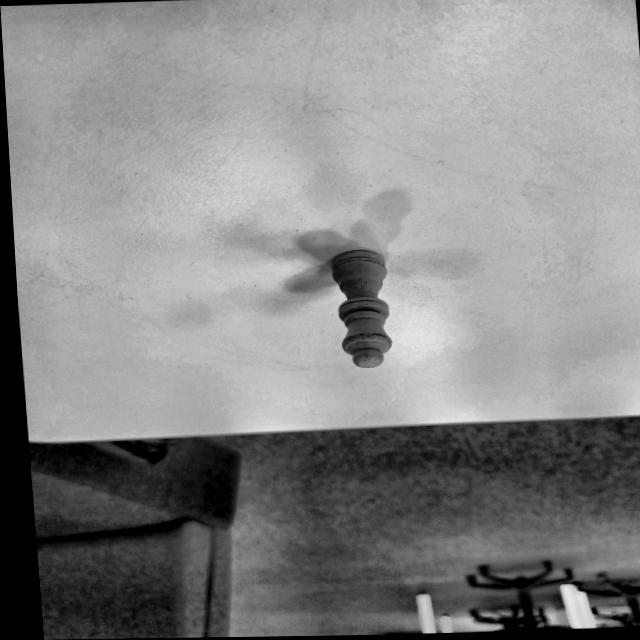white-queen: (331, 249, 391, 367)
